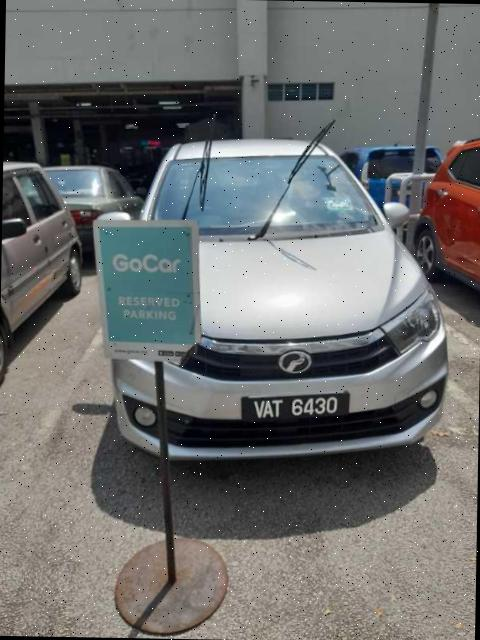License_Plate: (240, 391, 351, 426)
car: (93, 132, 455, 467)
